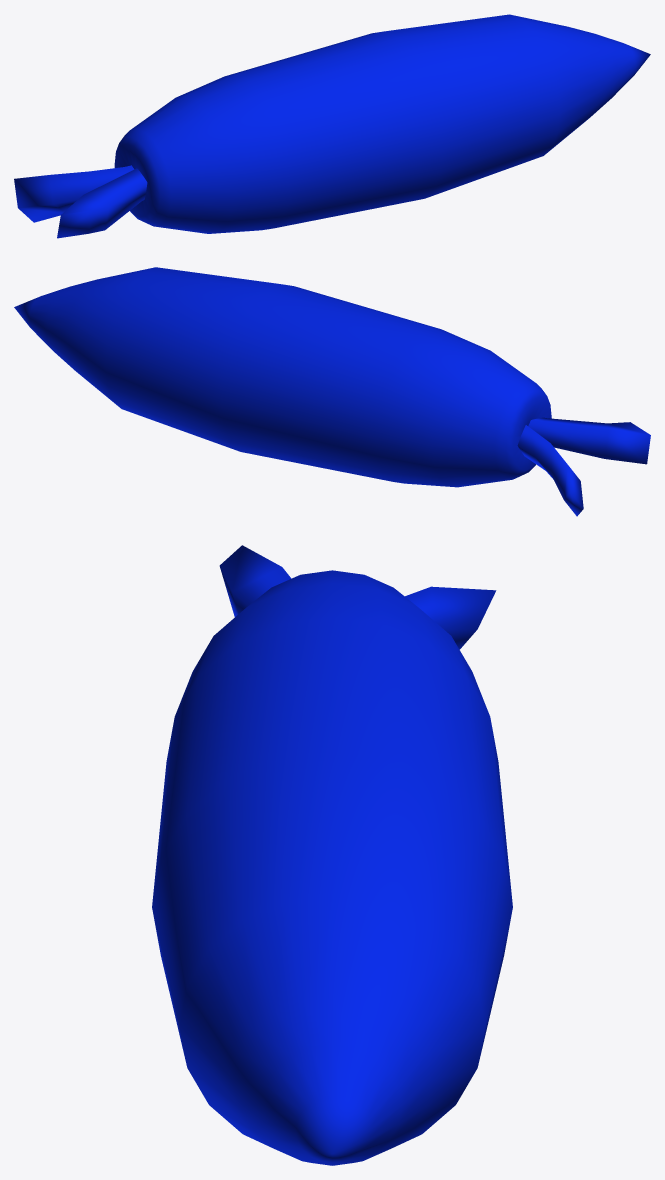
The model's file is S_Carrot_03.fbx.
3 renders of one model, top to bottom at view 1: azimuth 30°, elevation 25°; view 2: azimuth 150°, elevation 25°; view 3: azimuth 270°, elevation 25°, orthographic. The views are drawn at different scales.
Parts seen in each view (by area): view 1: Cylinder.008_low; view 2: Cylinder.008_low; view 3: Cylinder.008_low.
Part boxes in pixels (x1=…): Cylinder.008_low: x1=14, y1=14, x2=650, y2=238; Cylinder.008_low: x1=14, y1=267, x2=650, y2=516; Cylinder.008_low: x1=152, y1=545, x2=512, y2=1165.
Bounding box in the file's own units: 0.168 × 0.041 × 0.0429.
